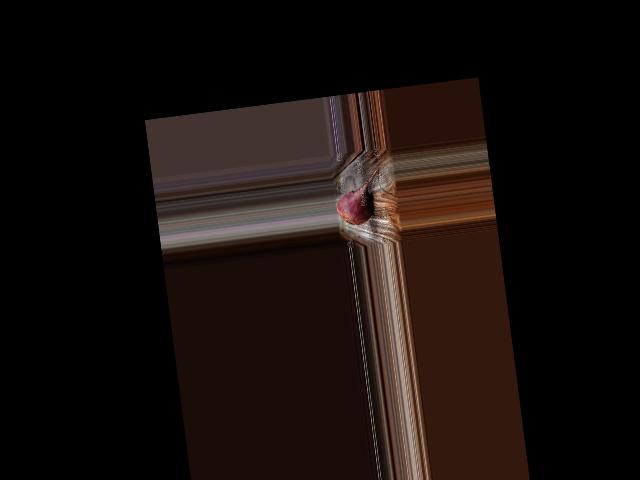beet: (332, 168, 384, 226)
